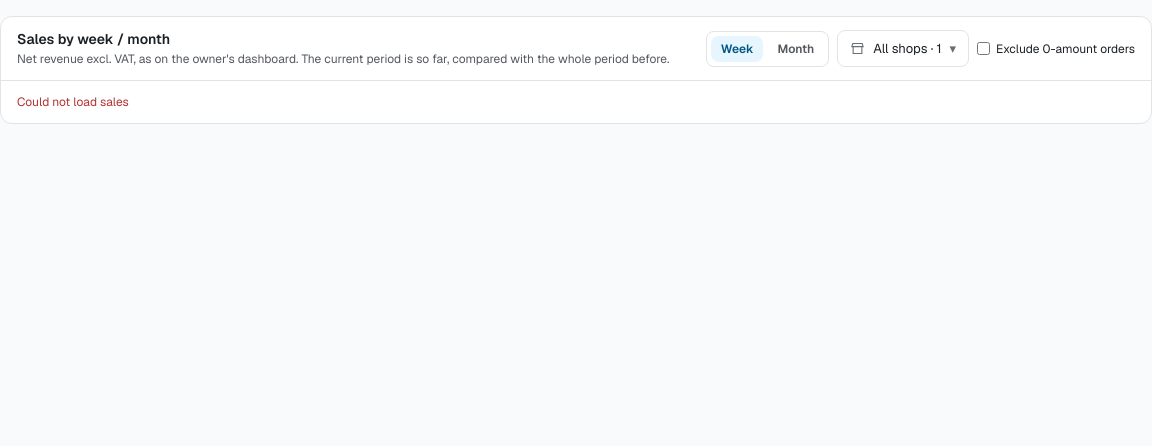
SalesByPeriod › clears a previous error as soon as the next request starts
Expected: the text "Could not load sales" is shown, [17, 94, 129, 110]
Click the tab "Month": click(796, 48) [767, 36, 824, 62]
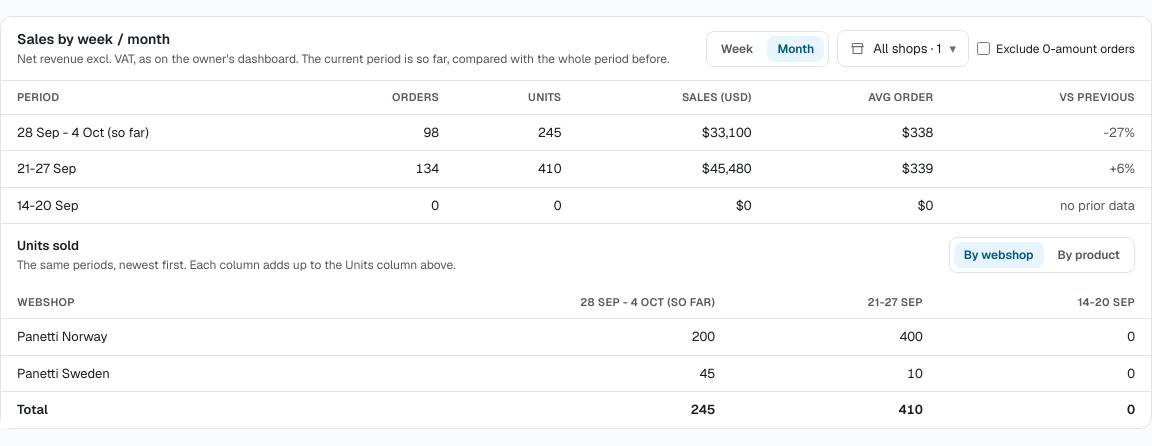
Expected: the text "Could not load sales" is gone
Expected: the table named "Sales by period" is shown, [1, 81, 1151, 223]
